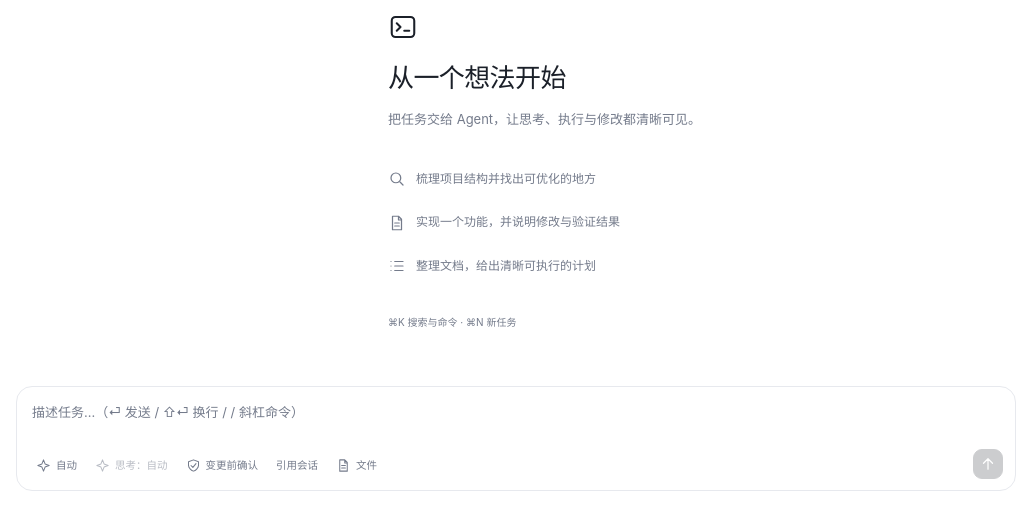
Test: composes a welcome suggestion without submitting a task
Click the button "梳理项目结构并找出可优化的地方" at (506,178), box left=388, top=159, right=878, bottom=199
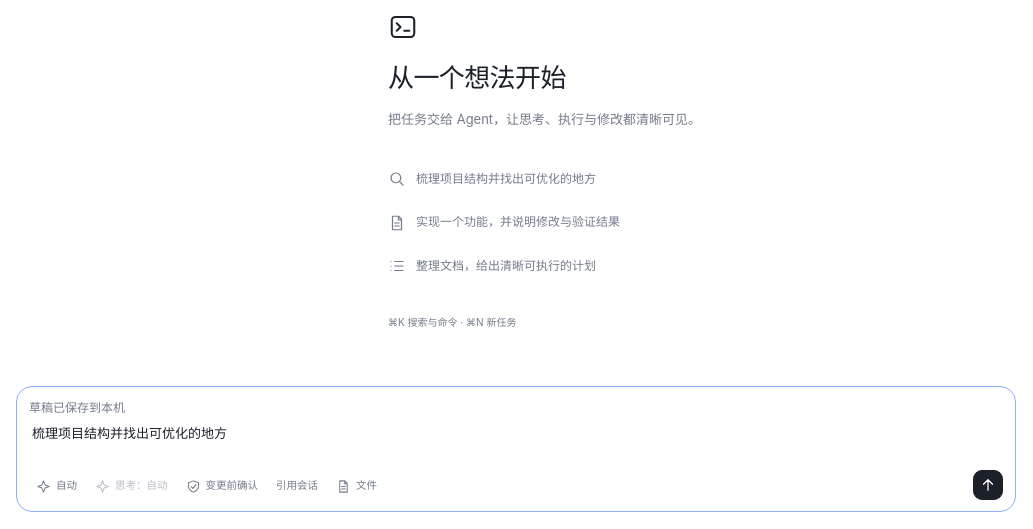
Expected: the text box with placeholder "描述任务…（⏎ 发送 / ⇧⏎ 换行 / / 斜杠命令）" holds "梳理项目结构并找出可优化的地方", left=29, top=418, right=1003, bottom=465
